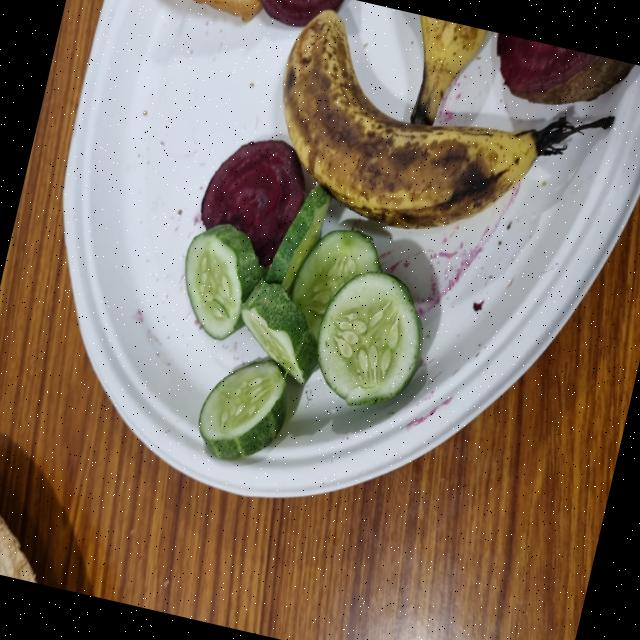banana: (277, 328, 459, 640)
cucumber: (145, 406, 249, 544), (214, 222, 306, 328), (120, 262, 197, 378), (172, 311, 258, 409), (224, 364, 289, 479), (245, 330, 327, 407)
